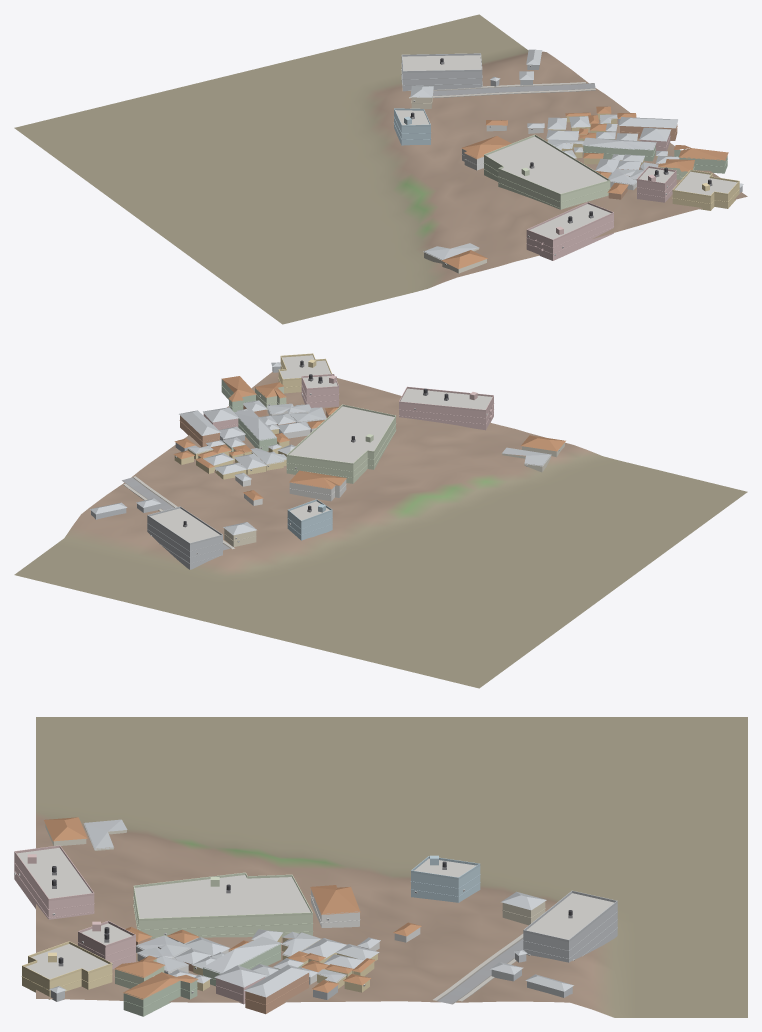
3 renders of one model, top to bottom at view 1: azimuth 30°, elevation 25°; view 2: azimuth 150°, elevation 25°; view 3: azimuth 270°, elevation 25°, orthographic. The views are drawn at different scales.
Parts seen in each view (by area): view 1: Terrain-col, Buildings-col, Details, Roads-col, Sidewalks-col; view 2: Terrain-col, Buildings-col, Details; view 3: Terrain-col, Buildings-col, Details, Roads-col, Sidewalks-col.
Part boxes in pixels (<box>): Terrain-col: <box>14,14,747,324</box>; Buildings-col: <box>394,49,743,273</box>; Details: <box>393,53,739,264</box>; Roads-col: <box>411,83,595,95</box>; Sidewalks-col: <box>408,82,595,98</box>; Terrain-col: <box>14,371,747,688</box>; Buildings-col: <box>90,355,565,569</box>; Details: <box>147,353,559,563</box>; Terrain-col: <box>36,717,747,1017</box>; Buildings-col: <box>14,817,617,1016</box>; Details: <box>14,831,617,1007</box>; Roads-col: <box>436,938,523,1004</box>; Sidewalks-col: <box>433,934,523,1001</box>.
Bounding box in the file's own units: 268 × 19.71 × 264.
